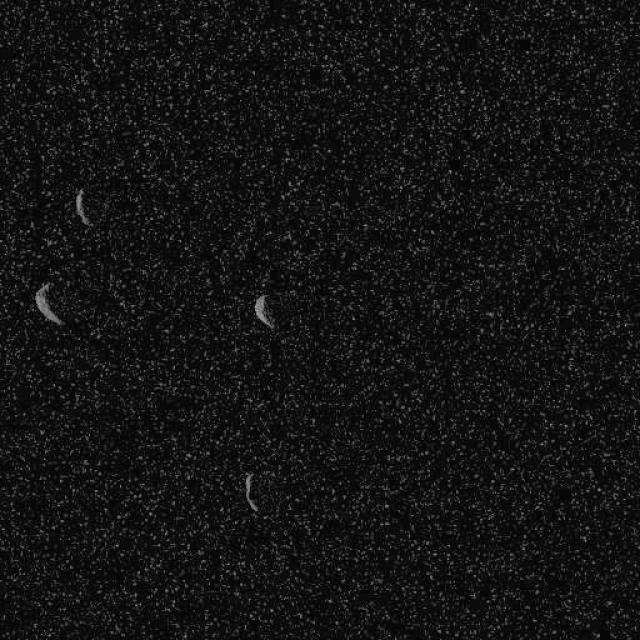D2: (32, 280, 64, 326), (252, 292, 276, 330), (74, 186, 91, 228), (242, 470, 258, 512)
